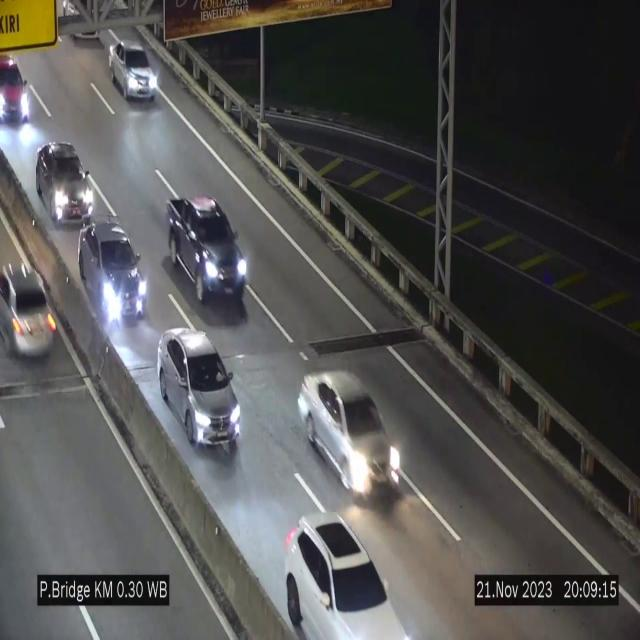Car: (281, 498, 408, 640), (298, 372, 402, 496), (157, 328, 241, 450), (165, 190, 249, 312), (77, 220, 149, 330), (0, 256, 60, 370), (39, 134, 93, 227), (0, 51, 42, 126), (109, 41, 159, 99)
